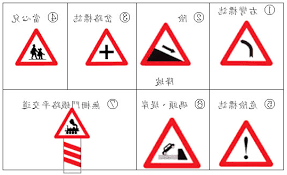Fork_road: (84, 27, 133, 68)
